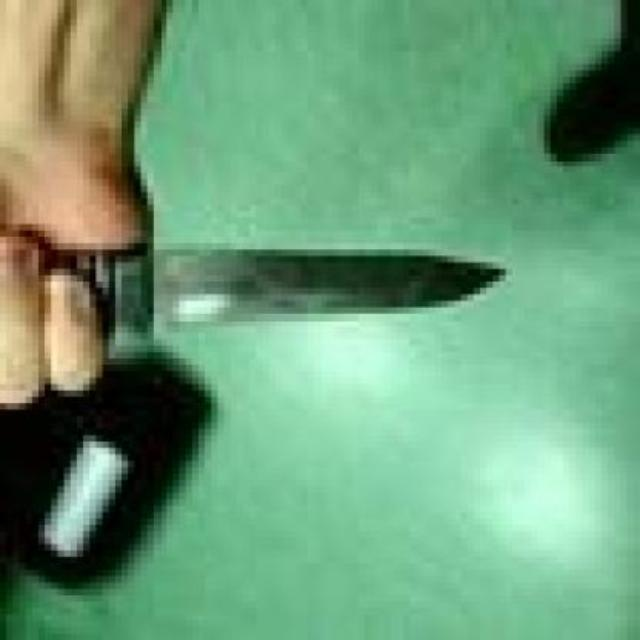Knife: (54, 250, 508, 318)
